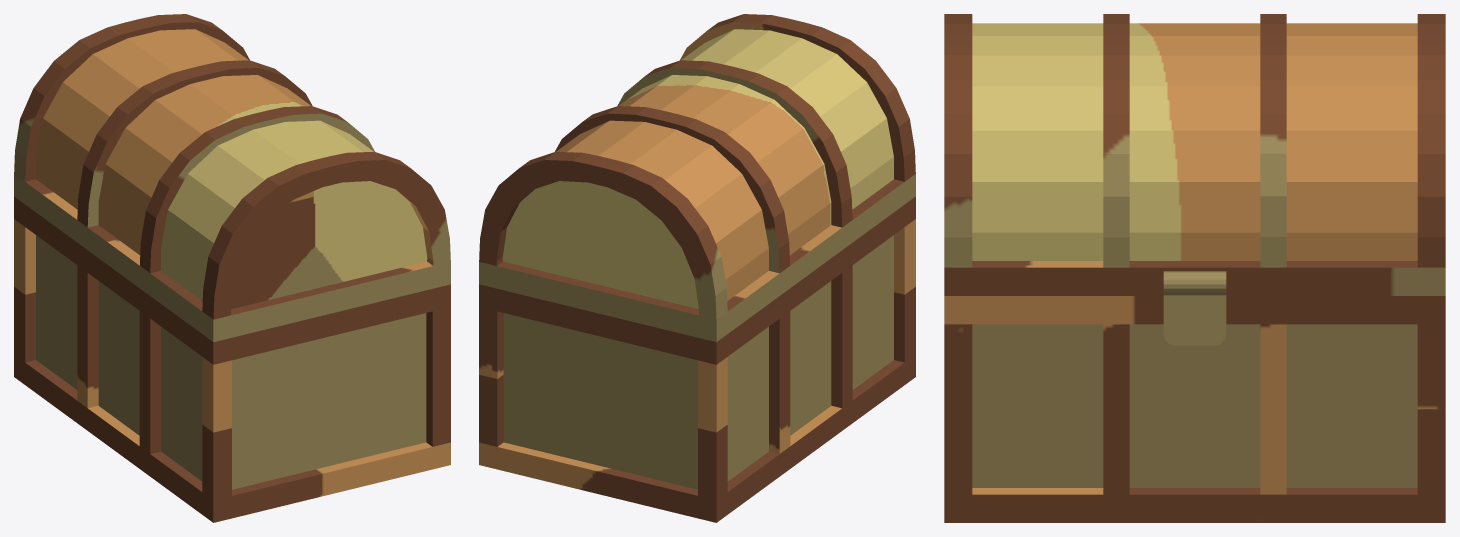
File: chest_unlocked (1).fbx
The picture shows the model from 3 angles, left to right: view 1: azimuth 30°, elevation 25°; view 2: azimuth 150°, elevation 25°; view 3: azimuth 270°, elevation 25°; orthographic projection. The views are drawn at different scales.
Visible parts, largest first — view 1: Cube.003, Cube, Cube.001; view 2: Cube.003, Cube, Cube.001; view 3: Cube.003, Cube, Cube.001.
Boxes of the visible parts, <box> form: Cube.003: <box>14,14,450,342</box>; Cube: <box>36,235,426,489</box>; Cube.001: <box>14,196,450,522</box>; Cube.003: <box>479,14,915,342</box>; Cube: <box>503,235,893,489</box>; Cube.001: <box>479,196,915,522</box>; Cube.003: <box>944,14,1445,345</box>; Cube: <box>972,324,1417,487</box>; Cube.001: <box>944,296,1445,522</box>.
Bounding box in the file's own units: 231 × 290 × 320.
